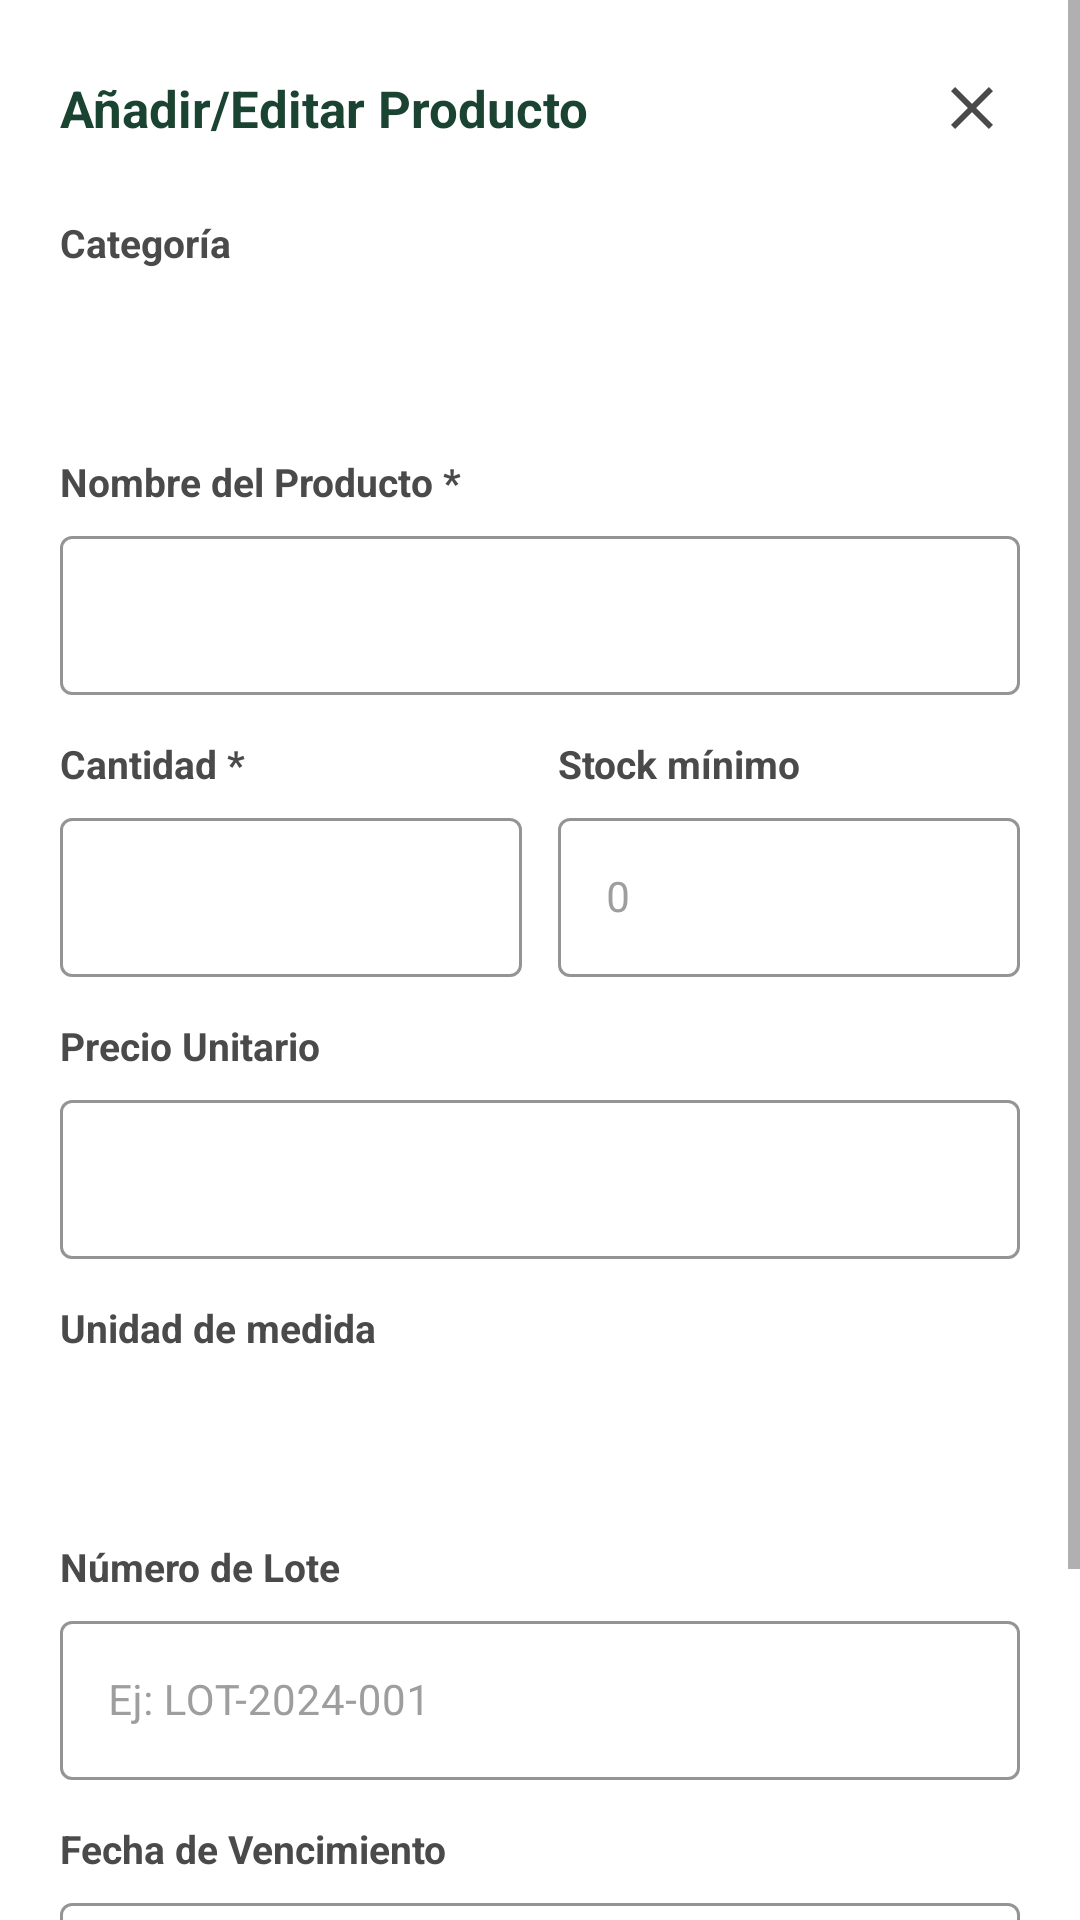

Icons on this 1080px x 1920px Android screen, each with its box as (x1, y1, x2, y2):
Cerrar: (951, 87, 993, 129)
